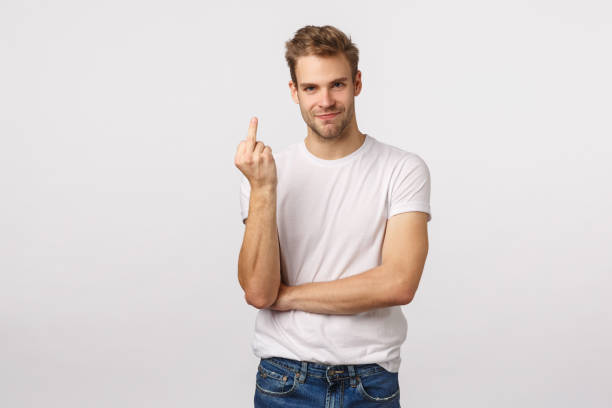insulting_gesture: (234, 114, 280, 190)
